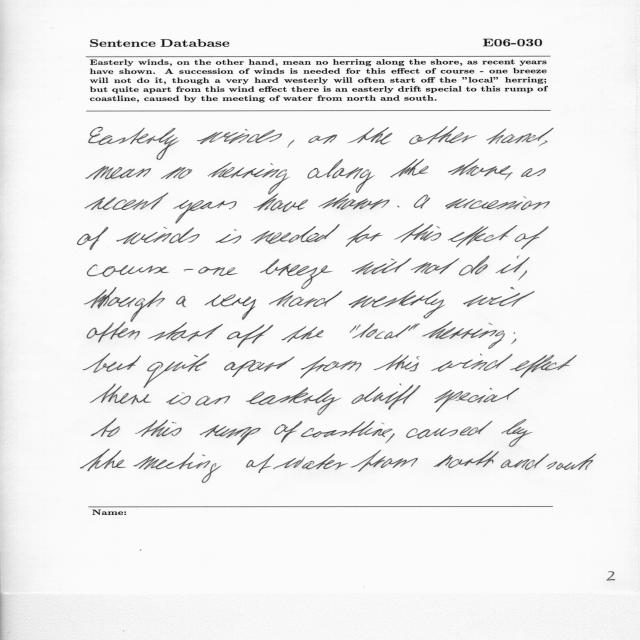word: (208, 159, 429, 194), (205, 291, 318, 320), (89, 127, 179, 160), (84, 287, 165, 322), (349, 291, 445, 319), (246, 387, 341, 415), (134, 453, 222, 483), (422, 321, 515, 349), (144, 353, 210, 388), (260, 259, 333, 289), (435, 388, 520, 412), (352, 384, 421, 410), (251, 224, 340, 244), (510, 354, 577, 378), (301, 421, 393, 438), (406, 421, 492, 439), (448, 225, 517, 247), (431, 354, 513, 372), (351, 450, 418, 472), (173, 200, 237, 223), (445, 196, 550, 210), (463, 287, 535, 307), (116, 227, 200, 244), (148, 322, 223, 341), (224, 357, 295, 377), (85, 193, 168, 210), (301, 357, 362, 379), (91, 384, 152, 405), (197, 129, 282, 144), (273, 453, 348, 470), (409, 127, 477, 145), (318, 193, 390, 210), (200, 425, 261, 445), (83, 353, 141, 373), (433, 451, 499, 468), (87, 322, 140, 343), (227, 324, 273, 348), (486, 128, 554, 144), (87, 264, 169, 277), (254, 193, 308, 212), (81, 449, 126, 471), (352, 258, 412, 274), (352, 323, 411, 339), (86, 166, 151, 180), (501, 419, 533, 447), (394, 224, 441, 243), (501, 453, 549, 470), (346, 225, 383, 247), (135, 420, 182, 437), (348, 127, 392, 145), (411, 258, 460, 274), (515, 227, 549, 250), (374, 355, 420, 372), (281, 326, 324, 343), (78, 227, 108, 250), (470, 165, 513, 180), (556, 454, 596, 470), (274, 421, 302, 442), (496, 256, 530, 273), (459, 256, 489, 275), (91, 418, 120, 437), (246, 454, 274, 473), (448, 159, 479, 175), (313, 291, 342, 307), (216, 229, 242, 244), (199, 267, 238, 276), (195, 396, 230, 406), (161, 167, 186, 179), (166, 393, 191, 405), (308, 134, 337, 144), (414, 194, 430, 209), (521, 168, 546, 177), (178, 169, 192, 179), (176, 296, 186, 307), (350, 324, 361, 333), (386, 433, 395, 444), (408, 323, 420, 331), (518, 271, 527, 281), (547, 462, 557, 469), (288, 140, 295, 148), (539, 141, 548, 147), (512, 339, 517, 345), (183, 269, 194, 271), (398, 206, 400, 208)
